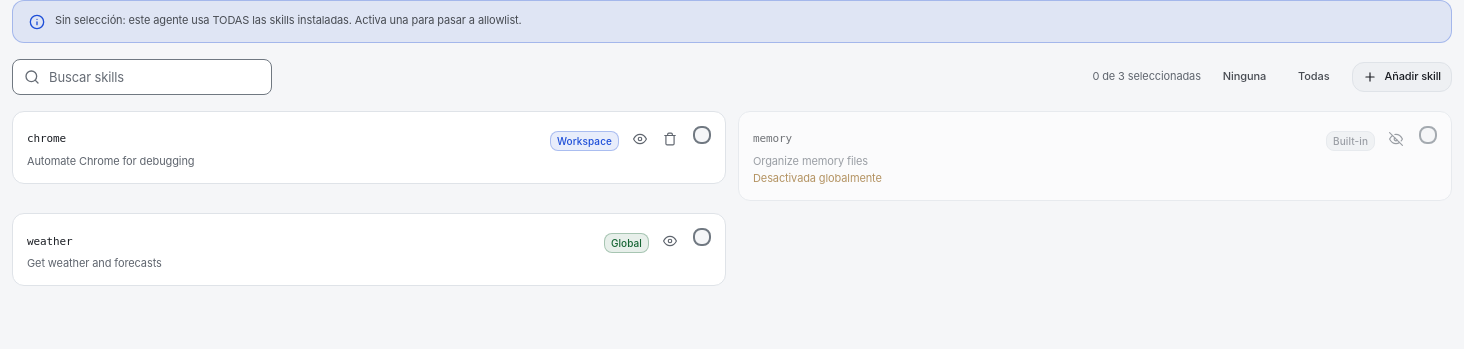
Test: AgentSkillsSection — workspace enable/disable › a failed toggle surfaces the message and still refreshes
Click the button named "Desactivar chrome en este workspace": (640, 139) [627,126,653,152]
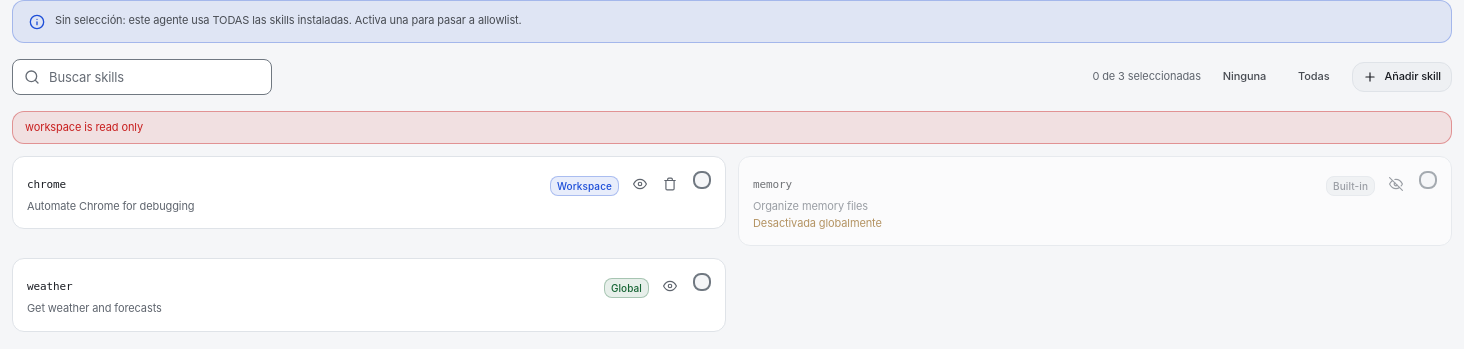
Check: the text "workspace is read only" is shown, box [12,111,1452,144]
